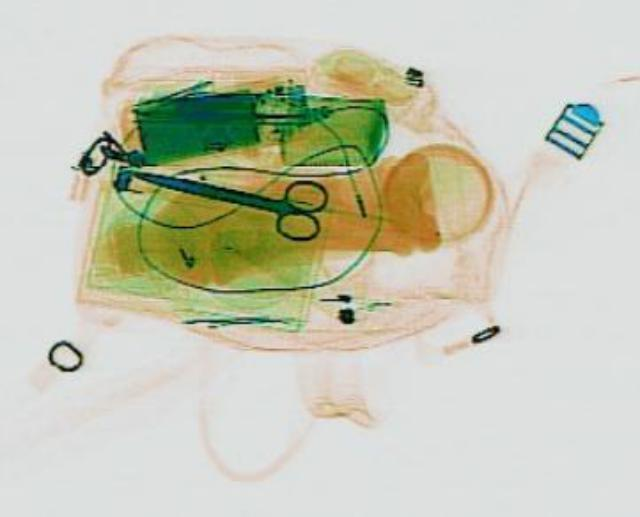Scissors: (121, 141, 335, 241)
